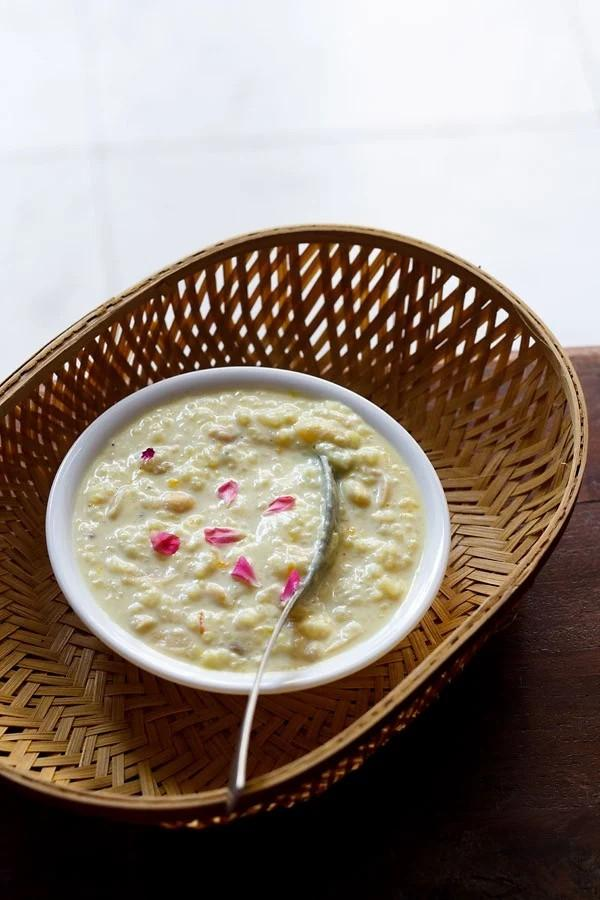Kheer: (74, 387, 423, 673)
